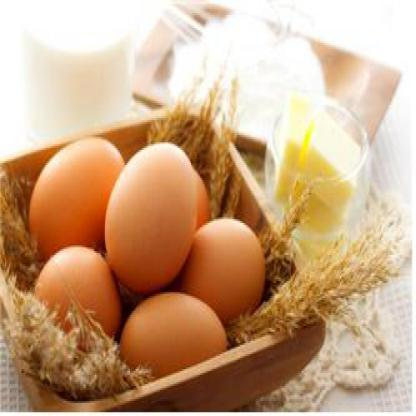egg: (92, 281, 252, 403), (20, 122, 164, 255), (101, 131, 200, 294), (25, 228, 121, 372), (169, 194, 264, 308)
